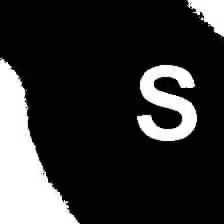LTR_S: (134, 58, 198, 143)
